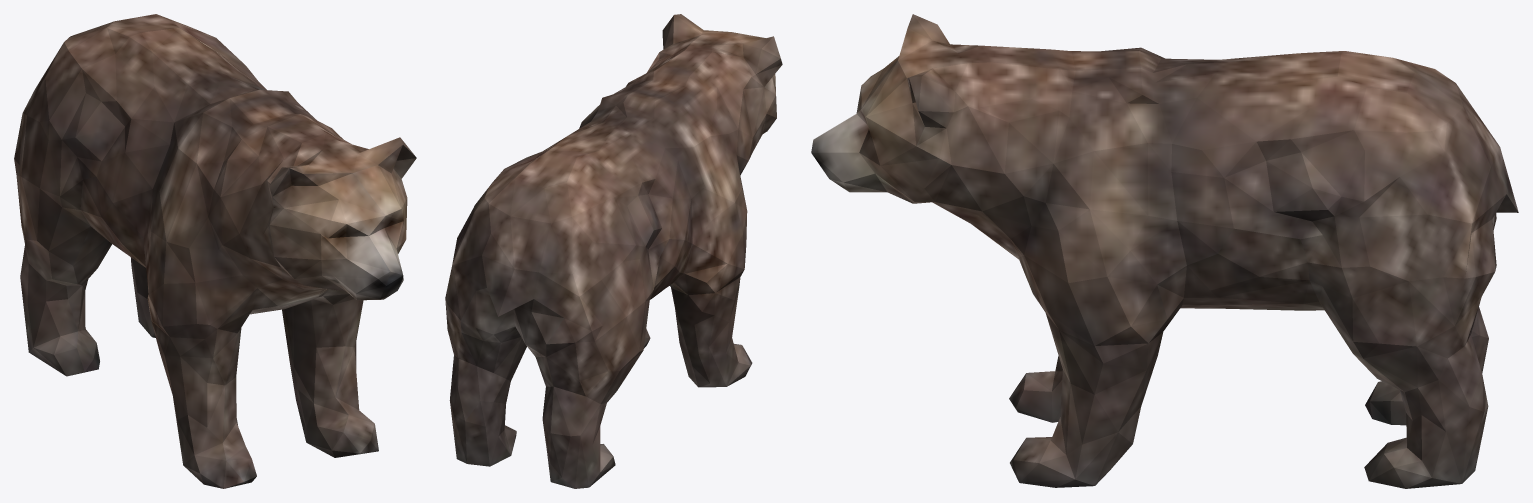
Rendered from r32_tier_baer.glb.
3 views of the same model, side by side, from view 1: azimuth 30°, elevation 25°; view 2: azimuth 150°, elevation 25°; view 3: azimuth 270°, elevation 25° (orthographic). The views are drawn at different scales.
Parts seen in each view (by area): view 1: baer; view 2: baer; view 3: baer.
Boxes of the visible parts, x1,y1,x2,y2 form: baer: (14, 14, 416, 488); baer: (445, 14, 782, 488); baer: (811, 14, 1518, 488).
Size of the model in its own units: 0.6237 by 1 by 1.61.
1 material, 1 textured.
